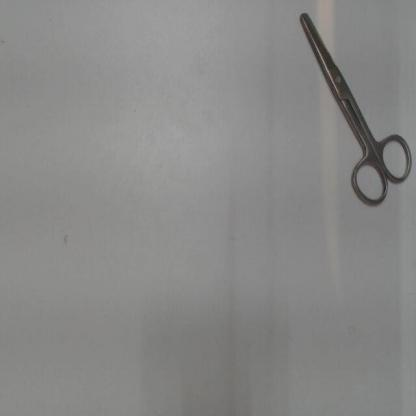Dressing Scissors: (291, 5, 415, 217)
